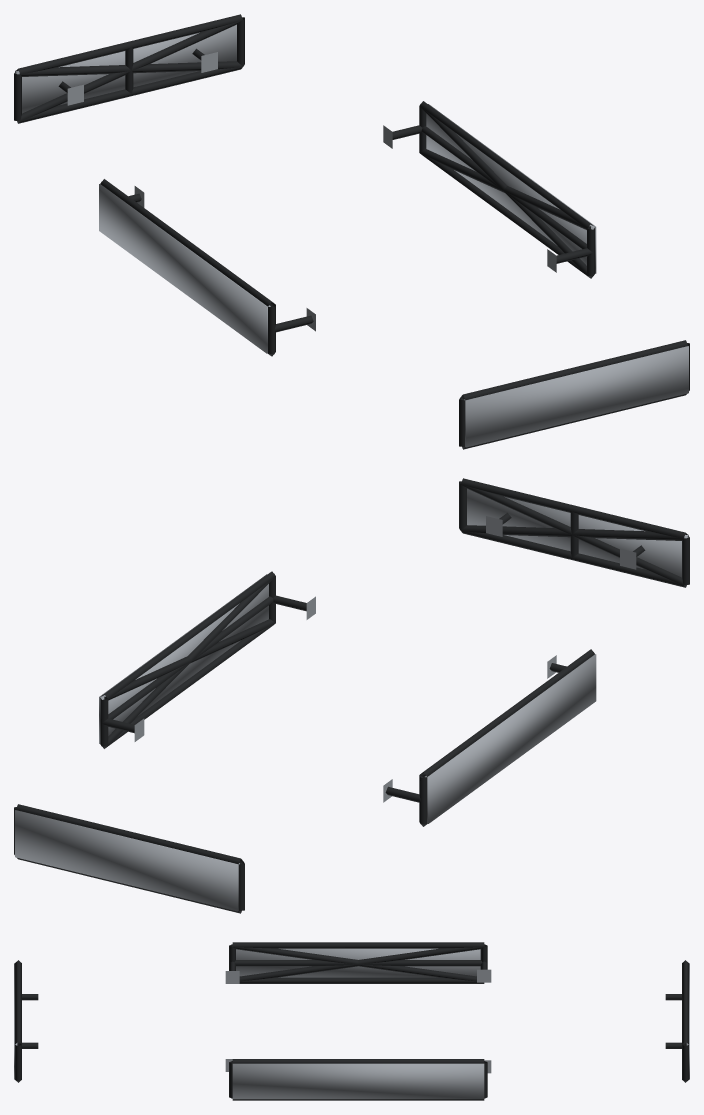
File: calderwood_arvoredo_protecao.glb
3 views of the same model, one above another, from view 1: azimuth 30°, elevation 25°; view 2: azimuth 150°, elevation 25°; view 3: azimuth 270°, elevation 25° (orthographic). The views are drawn at different scales.
Visible parts, largest first — view 1: Protection_front_Level3_Details, Protection_left_Level3_Details, Protection_rear_Level1_Details, Protection_rear_Level3_Details, Protection_right_Level1_Details, Protection_right_Level2_Details, Protection_rear_Level2_Details, Protection_right_Level3_Details, Protection_left_Level1_Details, Protection_front_Level1_Details; view 2: Protection_rear_Level3_Details, Protection_left_Level3_Details, Protection_front_Level1_Details, Protection_front_Level3_Details, Protection_right_Level1_Details, Protection_right_Level2_Details, Protection_front_Level2_Details, Protection_right_Level3_Details, Protection_left_Level1_Details, Protection_rear_Level1_Details; view 3: Protection_right_Level3_Details, Protection_left_Level2_Details, Protection_left_Level1_Details, Protection_left_Level3_Details, Protection_right_Level1_Details, Protection_rear_Level1_Details, Protection_front_Level1_Details.
Boxes of the visible parts, x1=… form: Protection_front_Level3_Details: x1=464, y1=346, x2=688, y2=447; Protection_left_Level3_Details: x1=99, y1=184, x2=270, y2=353; Protection_rear_Level1_Details: x1=14, y1=14, x2=244, y2=123; Protection_rear_Level3_Details: x1=15, y1=24, x2=236, y2=113; Protection_right_Level1_Details: x1=383, y1=101, x2=595, y2=278; Protection_right_Level2_Details: x1=419, y1=107, x2=594, y2=278; Protection_rear_Level2_Details: x1=16, y1=20, x2=242, y2=122; Protection_right_Level3_Details: x1=426, y1=104, x2=596, y2=273; Protection_left_Level1_Details: x1=100, y1=179, x2=315, y2=356; Protection_front_Level1_Details: x1=459, y1=340, x2=689, y2=449; Protection_rear_Level3_Details: x1=15, y1=810, x2=239, y2=911; Protection_left_Level3_Details: x1=424, y1=654, x2=596, y2=823; Protection_front_Level1_Details: x1=459, y1=478, x2=689, y2=587; Protection_front_Level3_Details: x1=467, y1=488, x2=688, y2=577; Protection_right_Level1_Details: x1=100, y1=571, x2=315, y2=748; Protection_right_Level2_Details: x1=101, y1=577, x2=275, y2=748; Protection_front_Level2_Details: x1=461, y1=484, x2=687, y2=586; Protection_right_Level3_Details: x1=99, y1=574, x2=268, y2=743; Protection_left_Level1_Details: x1=383, y1=649, x2=594, y2=826; Protection_rear_Level1_Details: x1=14, y1=804, x2=244, y2=913; Protection_right_Level3_Details: x1=232, y1=1063, x2=484, y2=1099; Protection_left_Level2_Details: x1=232, y1=945, x2=484, y2=981; Protection_left_Level1_Details: x1=225, y1=942, x2=491, y2=983; Protection_left_Level3_Details: x1=236, y1=948, x2=480, y2=977; Protection_right_Level1_Details: x1=225, y1=1059, x2=491, y2=1100; Protection_rear_Level1_Details: x1=665, y1=960, x2=688, y2=1082; Protection_front_Level1_Details: x1=15, y1=960, x2=38, y2=1082.
Size of the model in its own units: 2.21 by 0.354 by 5.24.
Materials: 1 (1 with a texture image).
